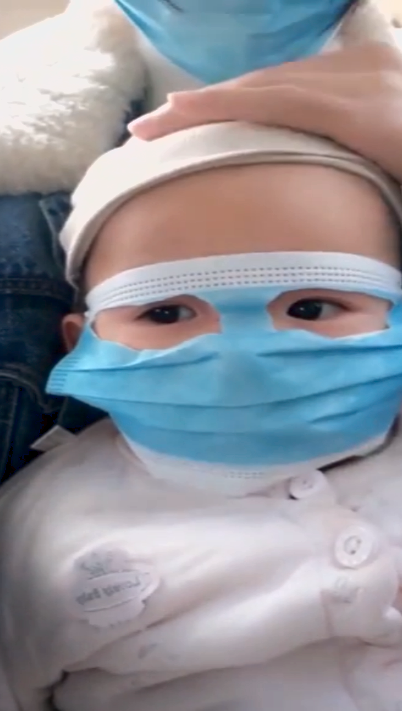mask_weared_incorrect: (49, 134, 402, 475)
